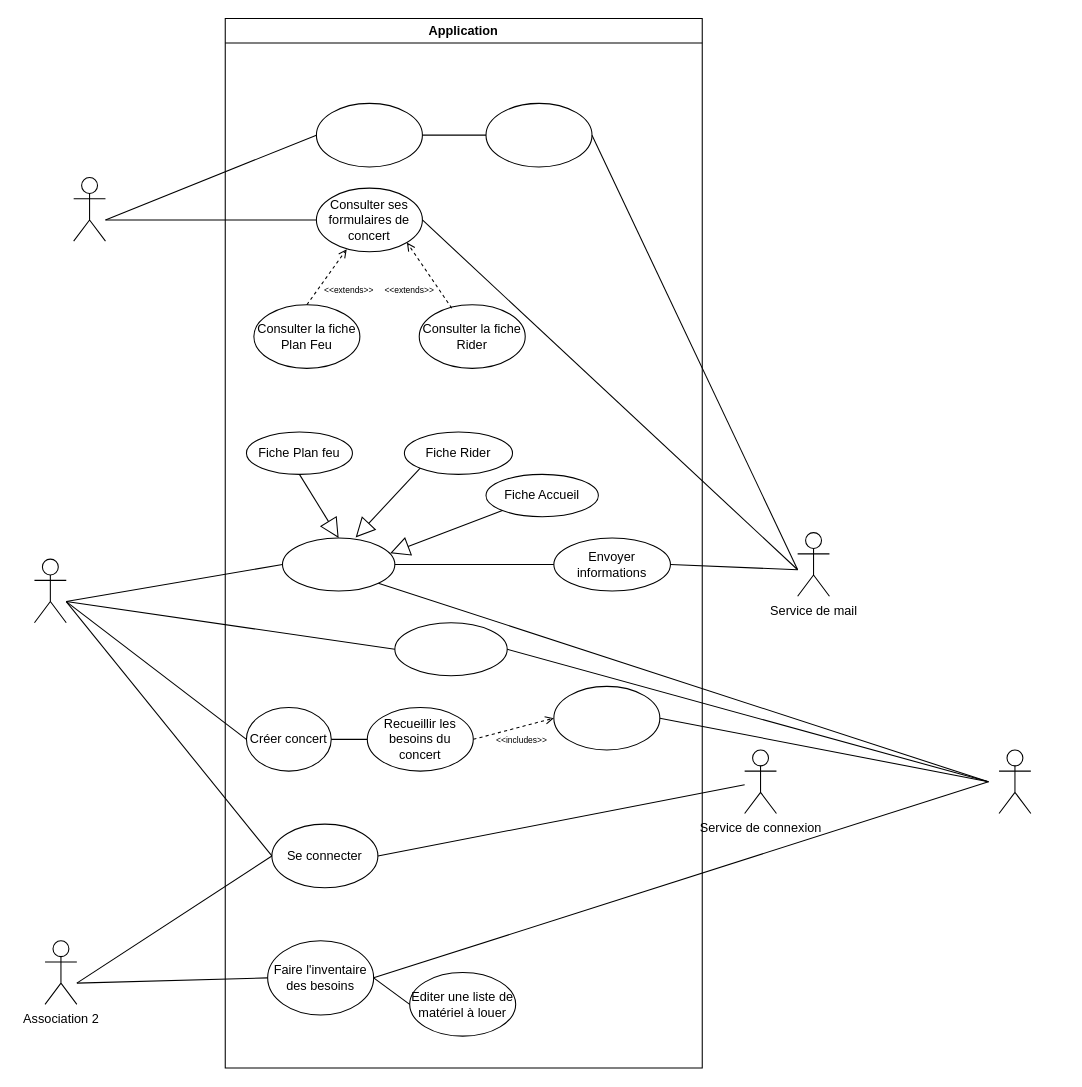
This 1082x1087 diagram has some shape labels left out. Each missing label, with the centre of its shape:
Artiste: (x=89, y=208)
Association 1: (x=49, y=590)
Base de données: (x=1014, y=781)
Editer fiches: (x=338, y=564)
Editer le plan de scène: (x=450, y=649)
Editer une liste des besoins pour un concert: (x=368, y=134)
Renvoyer le formulaire: (x=538, y=134)
Trouver une salle: (x=606, y=717)
